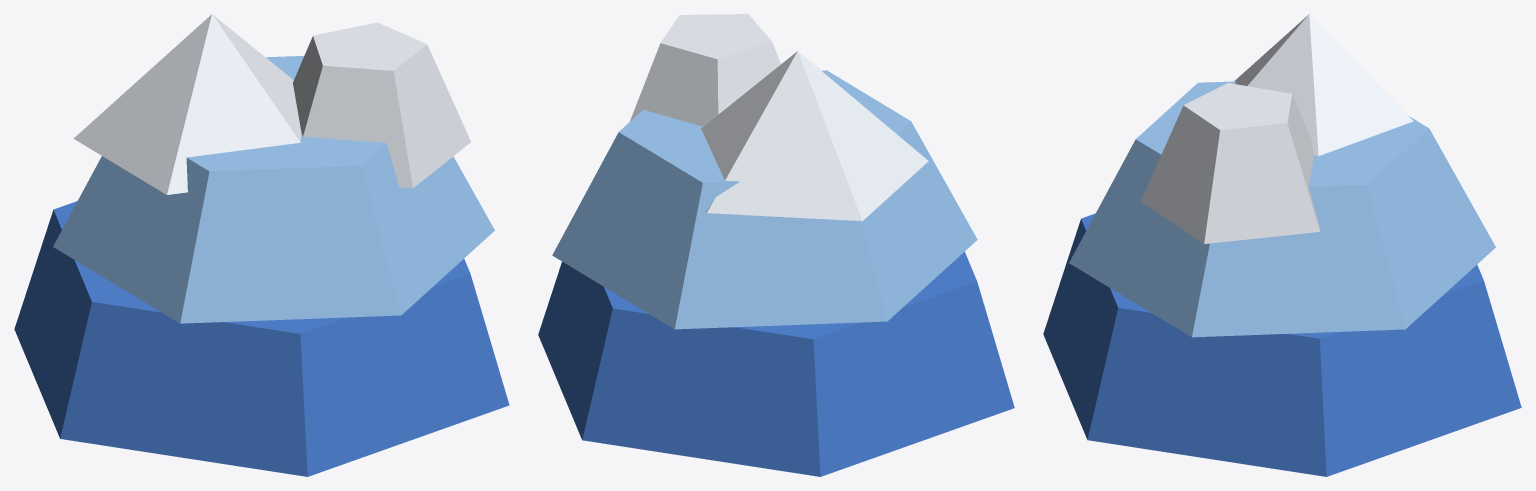
The model's file is hielo_iceberg.obj.
3 renders of one model, left to right at view 1: azimuth 30°, elevation 25°; view 2: azimuth 150°, elevation 25°; view 3: azimuth 270°, elevation 25°, orthographic. The views are drawn at different scales.
Parts seen in each view (by area): view 1: hielo_iceberg; view 2: hielo_iceberg; view 3: hielo_iceberg.
Boxes of the visible parts, left/top/right/bottom form: hielo_iceberg: left=14, top=14, right=509, bottom=476; hielo_iceberg: left=538, top=14, right=1014, bottom=476; hielo_iceberg: left=1043, top=14, right=1521, bottom=476.
Bounding box in the file's own units: 1.87 × 1.4 × 1.79.
